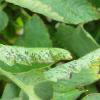Tomato leaf bacterial spot: (42, 45, 99, 92), (0, 46, 75, 73)
